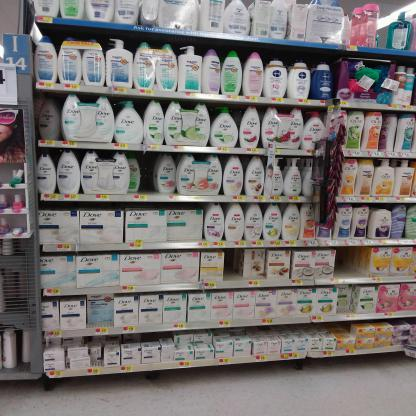Void: (338, 250, 365, 279), (142, 157, 156, 193), (230, 252, 241, 278)
